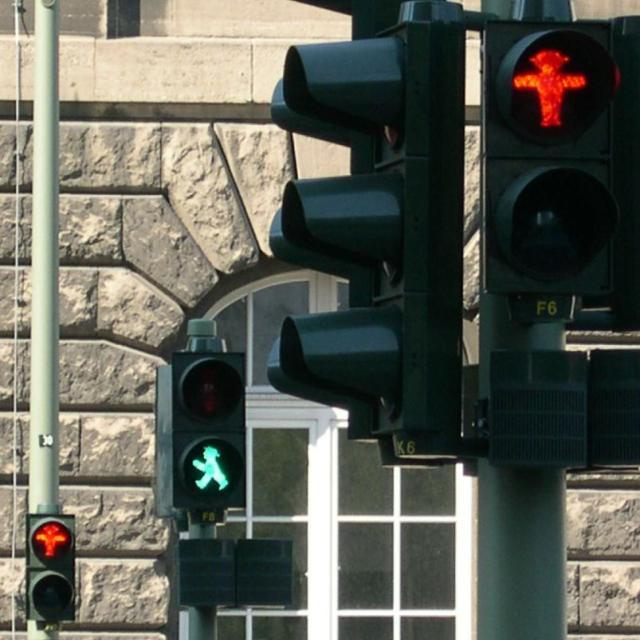off traffic light: (271, 10, 465, 447)
traffic light: (480, 23, 619, 298), (174, 353, 249, 507), (25, 514, 77, 624)
